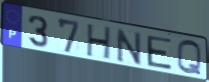3: (27, 15, 51, 49)
7: (55, 17, 82, 55)
E: (145, 34, 174, 72)
H: (85, 23, 113, 62)
N: (115, 27, 143, 67)
Q: (176, 39, 203, 78)
